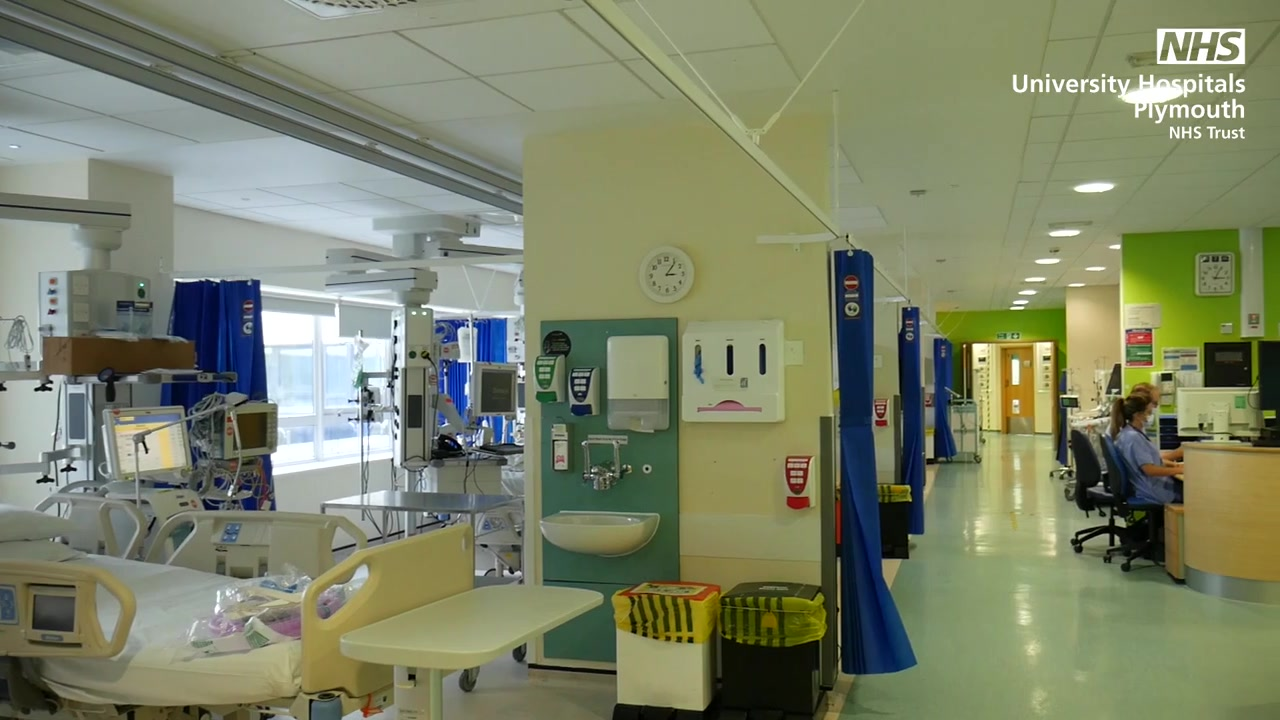bedrail: (146, 510, 368, 584), (137, 510, 364, 582), (1, 557, 136, 658), (33, 492, 147, 562)
bedside_monitor: (103, 405, 194, 478), (226, 405, 278, 455), (475, 363, 519, 416)
chair: (1097, 434, 1170, 572), (1062, 429, 1133, 552)
computer: (1177, 387, 1264, 437)
counter: (1183, 440, 1280, 603)
curtain: (834, 249, 918, 675), (160, 282, 276, 510), (436, 317, 513, 448), (898, 306, 925, 535), (933, 337, 957, 458)
dispenser: (682, 319, 785, 423), (605, 333, 671, 433), (783, 454, 817, 512), (532, 354, 565, 404), (569, 367, 600, 416), (873, 398, 890, 427)
faucet: (581, 438, 631, 490)
foot_board: (302, 522, 476, 698)
hospital_bed: (1, 494, 472, 720)
iv_pole: (350, 330, 372, 493)
overbed_table: (340, 585, 604, 720)
sink: (539, 510, 660, 558)
staff: (1112, 393, 1185, 513)
telephone: (1152, 369, 1175, 392), (437, 434, 465, 452)
utility_cart: (948, 399, 983, 464)
waste_bin: (611, 580, 721, 720), (722, 582, 828, 720), (878, 483, 911, 558)
